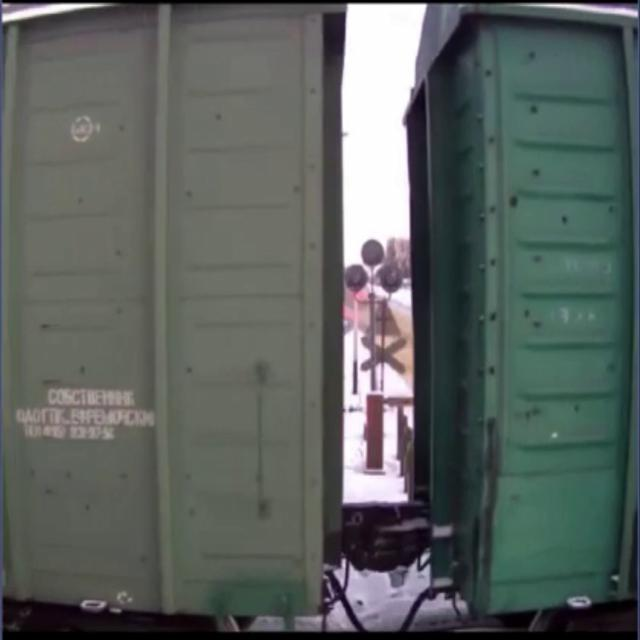boxcar: (0, 0, 371, 640), (391, 0, 638, 640)
